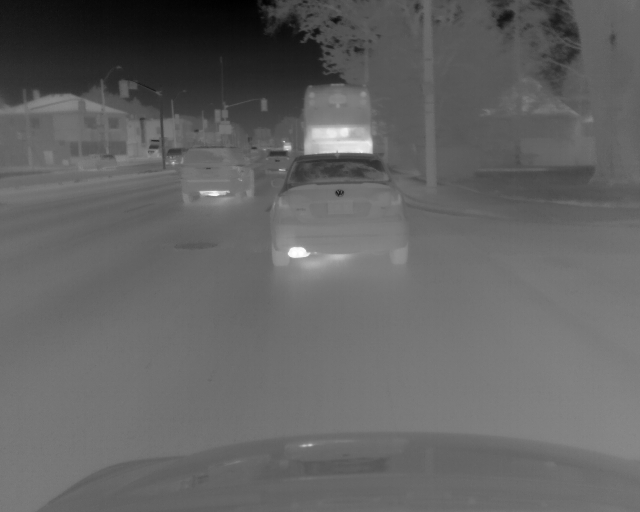car: (269, 154, 409, 271), (298, 80, 373, 158), (182, 145, 255, 203), (73, 153, 115, 175), (265, 148, 287, 171), (163, 147, 185, 167)
